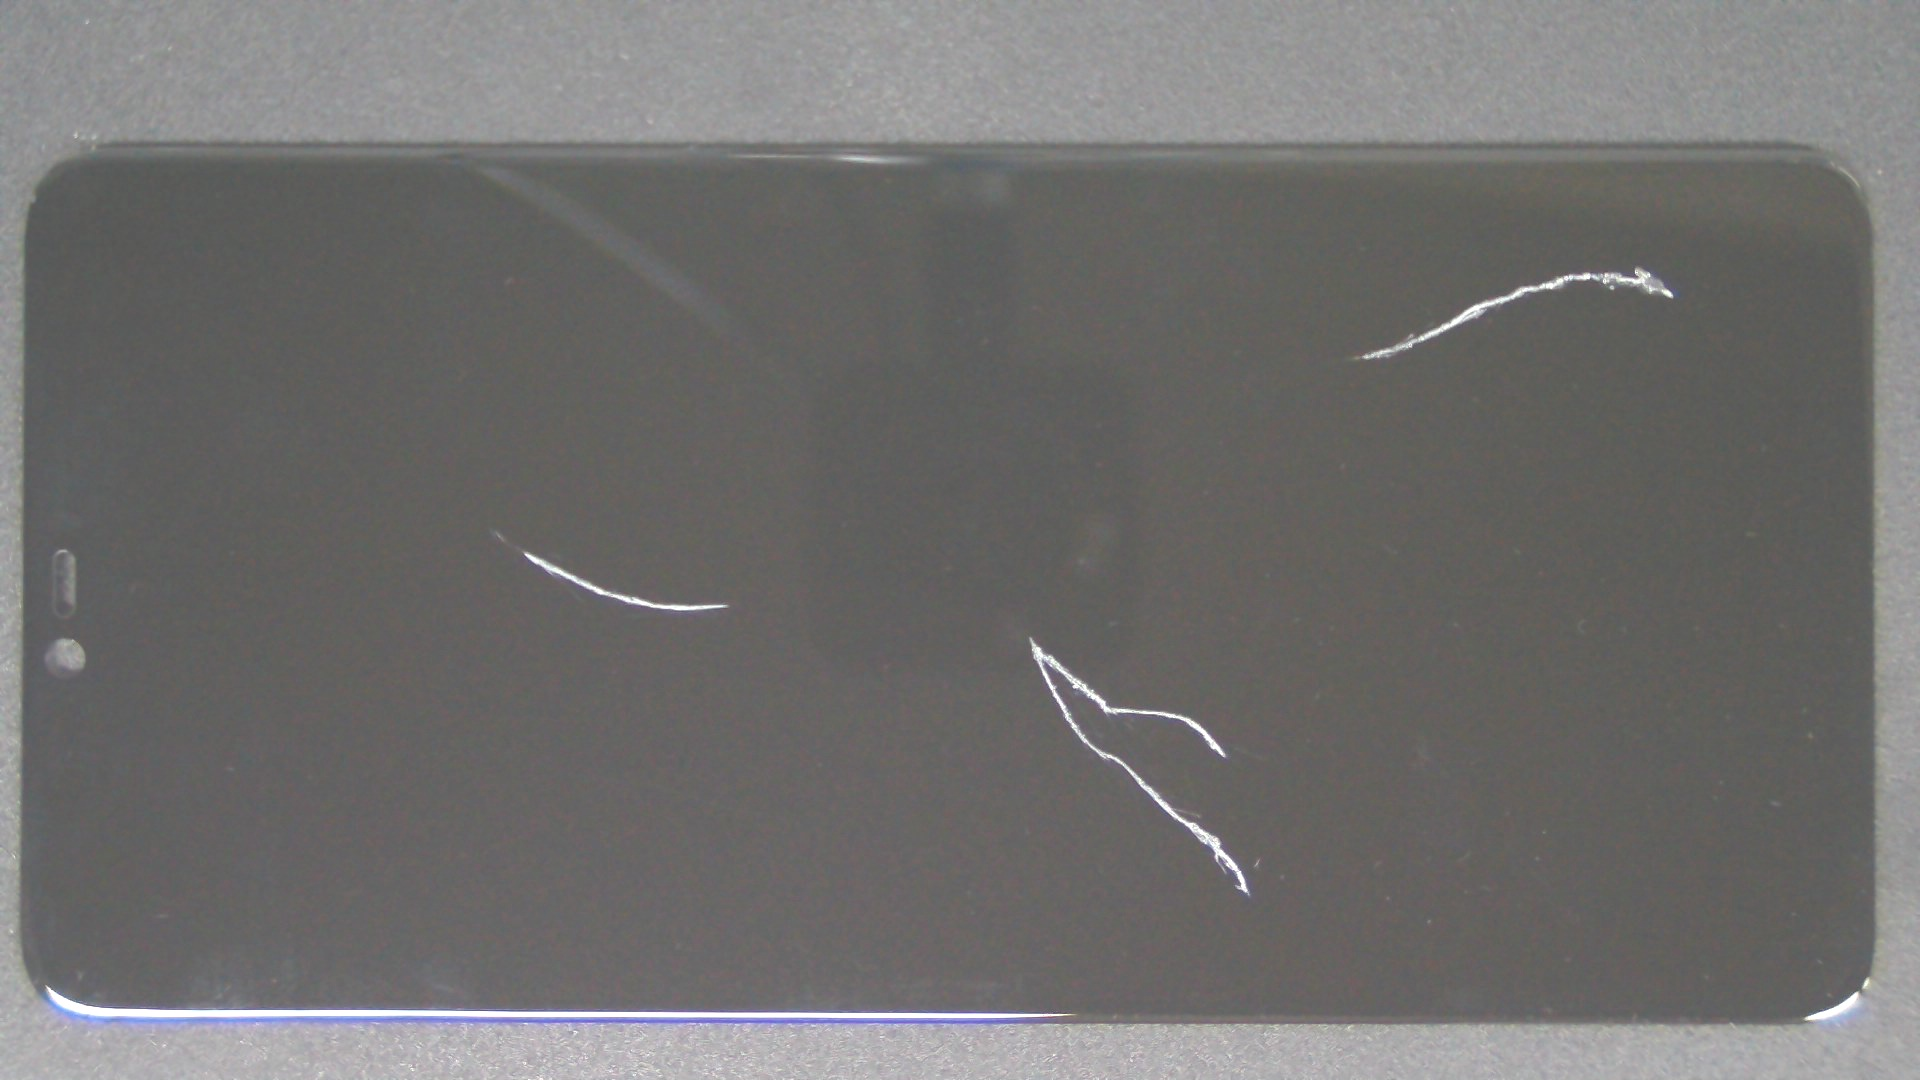oil: (516, 316, 1545, 952), (818, 132, 1920, 400), (261, 274, 782, 825), (248, 264, 744, 794)
